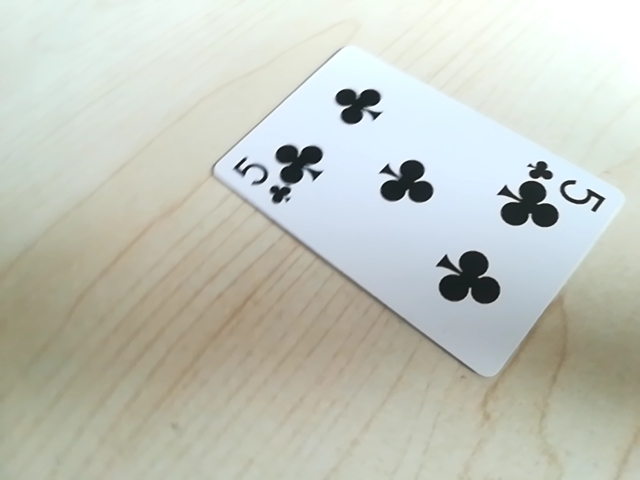mh 5: (525, 161, 609, 220), (231, 150, 292, 209)
